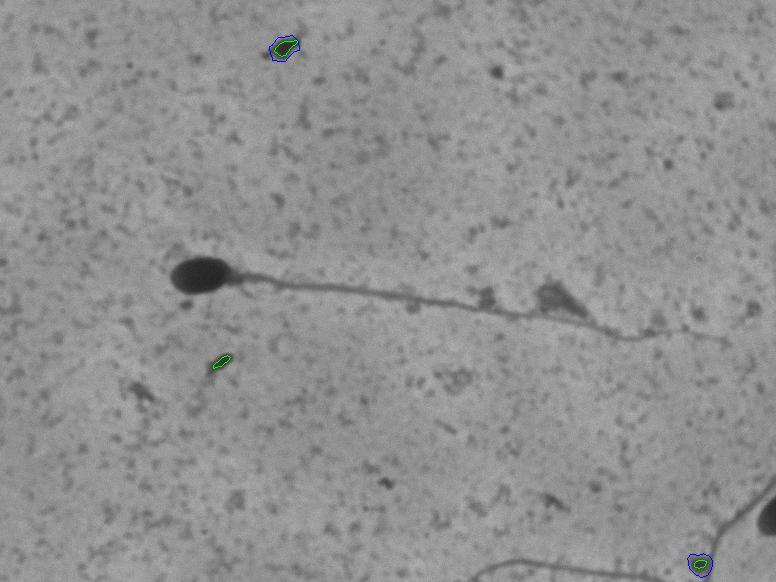Abnormal: (125, 244, 737, 355)
